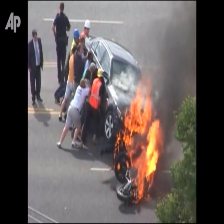fire_h: (123, 74, 163, 200)
fire_l: (113, 133, 120, 154), (125, 160, 129, 167), (117, 161, 120, 170)
